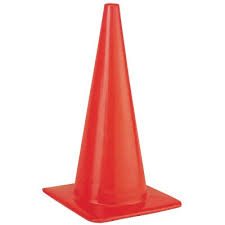cones: (44, 4, 184, 222)
